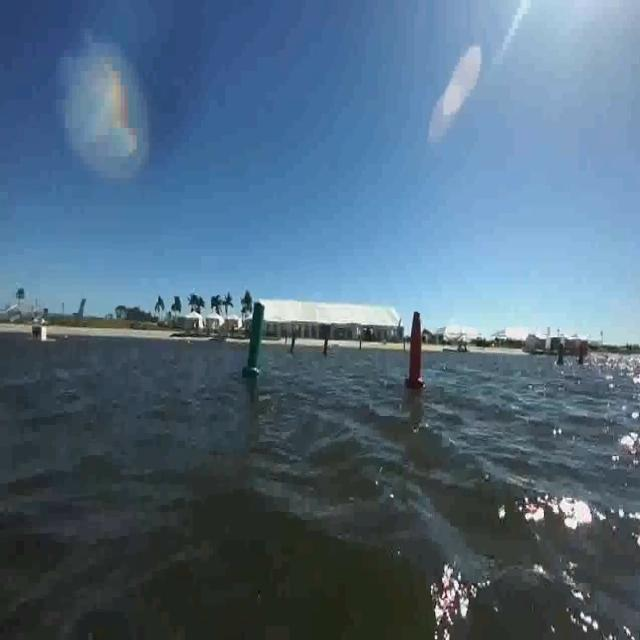green-column-buoy: (242, 300, 267, 378), (288, 335, 296, 355)
red-column-buoy: (406, 308, 426, 390), (326, 337, 332, 357)
